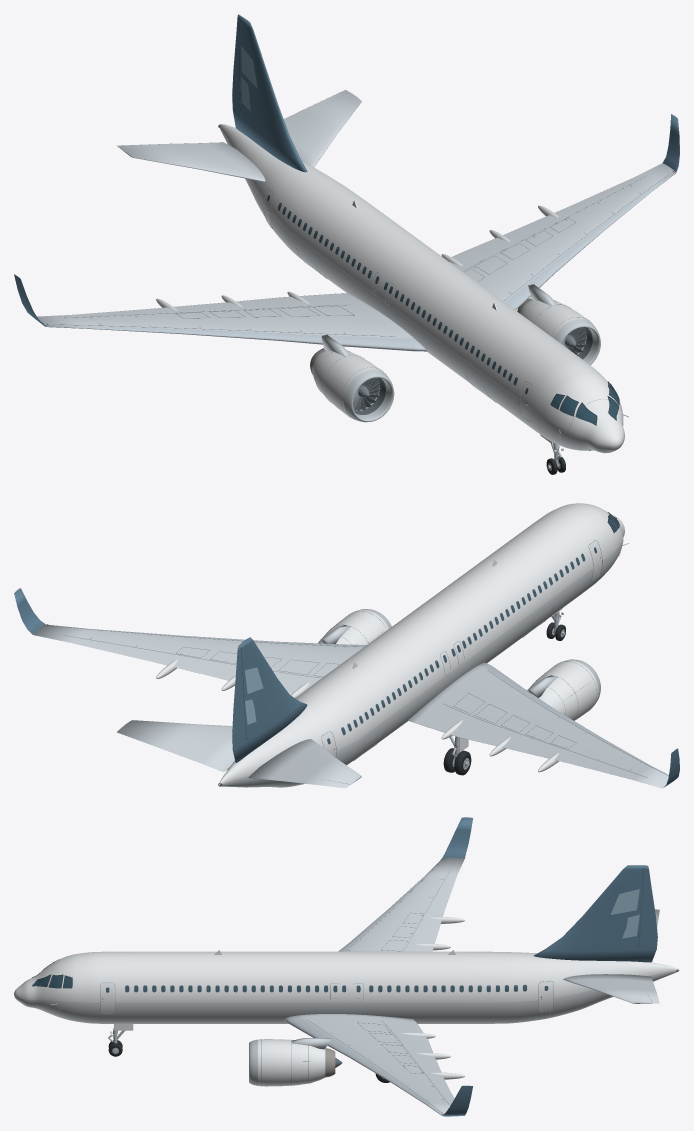
The model's file is aircraft.glb.
The picture shows the model from 3 angles, top to bottom: view 1: azimuth 30°, elevation 25°; view 2: azimuth 150°, elevation 25°; view 3: azimuth 270°, elevation 25°; orthographic projection. The views are drawn at different scales.
Parts seen in each view (by area): view 1: Fuselage_pressure_shell, Starboard_wing_airfoil, Port_wing_airfoil, Vertical_stabilizer_airfoil, Starboard_horizontal_stabilizer, Port_horizontal_stabilizer, Starboard_nacelle_outer_cowling, Port_nacelle_outer_cowling, Starboard_polished_intake_lip, R_cabin_windows_glass_batched, Starboard_wing_panel_seams, Port_polished_intake_lip; view 2: Fuselage_pressure_shell, Starboard_wing_airfoil, Port_wing_airfoil, Vertical_stabilizer_airfoil, Port_horizontal_stabilizer, Starboard_horizontal_stabilizer, Starboard_nacelle_outer_cowling, Port_nacelle_outer_cowling, R_cabin_windows_glass_batched, Port_wing_panel_seams, Starboard_wing_panel_seams, Port_sharklet; view 3: Fuselage_pressure_shell, Port_wing_airfoil, Vertical_stabilizer_airfoil, Starboard_wing_airfoil, Port_nacelle_outer_cowling, Port_horizontal_stabilizer, L_cabin_windows_glass_batched, Starboard_sharklet, Port_sharklet, L_cabin_windows_frame_batched, Tail_abstract_band_1_1, Port_wing_panel_seams.
Part boxes in pixels (x1,y1,x2,y2): Fuselage_pressure_shell: (219, 124, 624, 453); Starboard_wing_airfoil: (37, 293, 427, 351); Port_wing_airfoil: (450, 163, 675, 310); Vertical_stabilizer_airfoil: (232, 14, 307, 172); Starboard_horizontal_stabilizer: (117, 142, 265, 181); Port_horizontal_stabilizer: (283, 90, 361, 167); Starboard_nacelle_outer_cowling: (312, 350, 383, 417); Port_nacelle_outer_cowling: (520, 300, 590, 354); Starboard_polished_intake_lip: (344, 369, 394, 422); R_cabin_windows_glass_batched: (278, 203, 517, 385); Starboard_wing_panel_seams: (53, 304, 395, 336); Port_polished_intake_lip: (554, 319, 600, 365); Fuselage_pressure_shell: (219, 503, 624, 787); Starboard_wing_airfoil: (408, 662, 668, 788); Port_wing_airfoil: (33, 624, 366, 696); Vertical_stabilizer_airfoil: (232, 637, 307, 762); Port_horizontal_stabilizer: (117, 720, 234, 771); Starboard_horizontal_stabilizer: (248, 739, 361, 788); Starboard_nacelle_outer_cowling: (527, 660, 598, 720); Port_nacelle_outer_cowling: (318, 610, 388, 644); R_cabin_windows_glass_batched: (341, 553, 585, 734); Port_wing_panel_seams: (53, 625, 363, 677); Starboard_wing_panel_seams: (443, 670, 668, 777); Port_sharklet: (14, 588, 45, 634); Fuselage_pressure_shell: (14, 951, 679, 1023); Port_wing_airfoil: (284, 1014, 454, 1115); Vertical_stabilizer_airfoil: (534, 865, 657, 962); Starboard_wing_airfoil: (338, 857, 464, 951); Port_nacelle_outer_cowling: (258, 1039, 325, 1086); Port_horizontal_stabilizer: (563, 974, 659, 1003); L_cabin_windows_glass_batched: (125, 985, 526, 992); Starboard_sharklet: (442, 817, 472, 858); Port_sharklet: (442, 1085, 472, 1116); L_cabin_windows_frame_batched: (125, 984, 527, 992); Tail_abstract_band_1_1: (610, 889, 639, 914); Port_wing_panel_seams: (307, 1020, 450, 1112).
Size of what is drawn, in the model's own units: 35.8 by 11.76 by 37.57.
